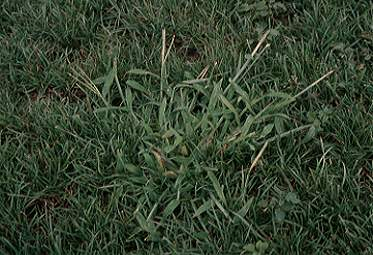crabgrass: (85, 56, 300, 226)
